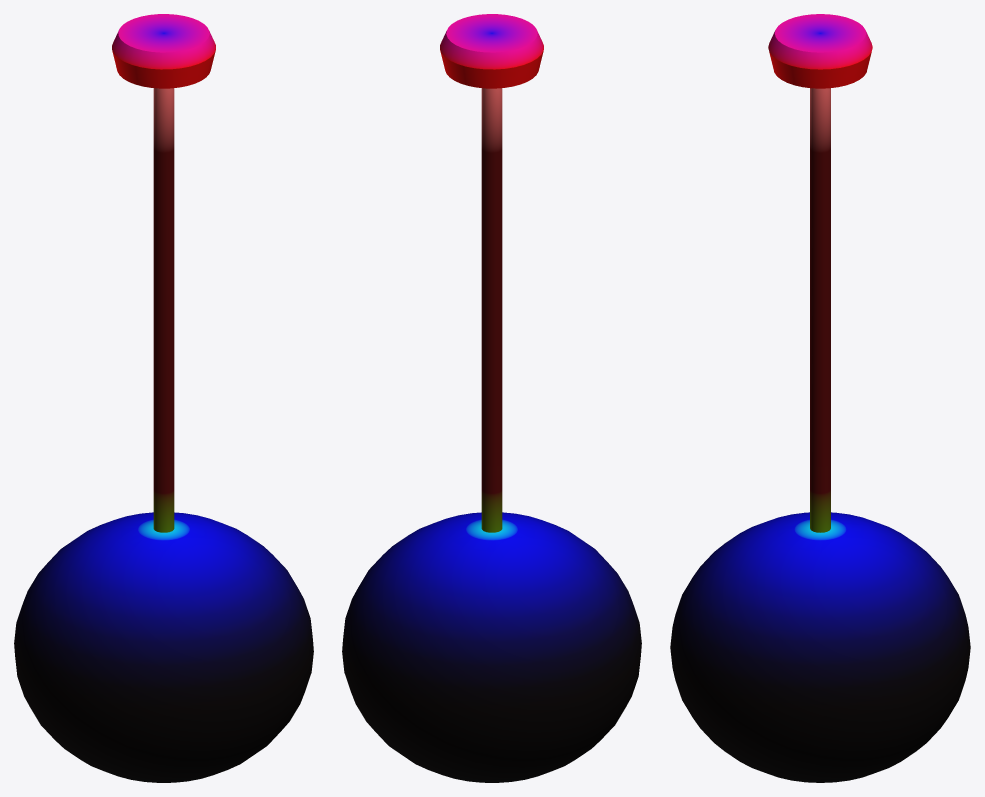
Rendered from prop_pendant_globe.fbx.
The picture shows the model from 3 angles, left to right: view 1: azimuth 30°, elevation 25°; view 2: azimuth 150°, elevation 25°; view 3: azimuth 270°, elevation 25°; orthographic projection.
Visible parts, largest first — view 1: prop_pendant_globe; view 2: prop_pendant_globe; view 3: prop_pendant_globe.
Part boxes in pixels (x1,y1,x2,y2): prop_pendant_globe: (14,14,313,782); prop_pendant_globe: (342,14,641,782); prop_pendant_globe: (670,14,970,782).
Size of the model in its own units: 0.23 by 0.62 by 0.23.
